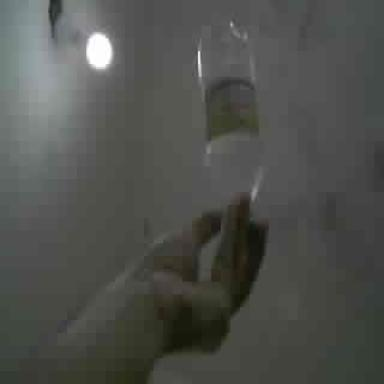bottle: (198, 21, 262, 202)
